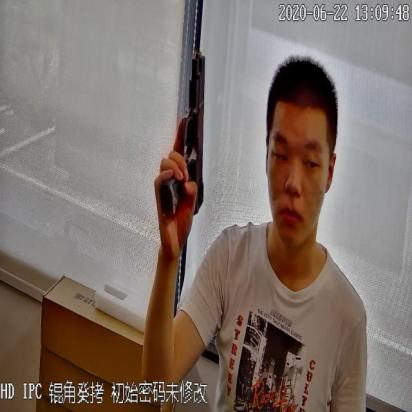Gun: (159, 47, 211, 223)
